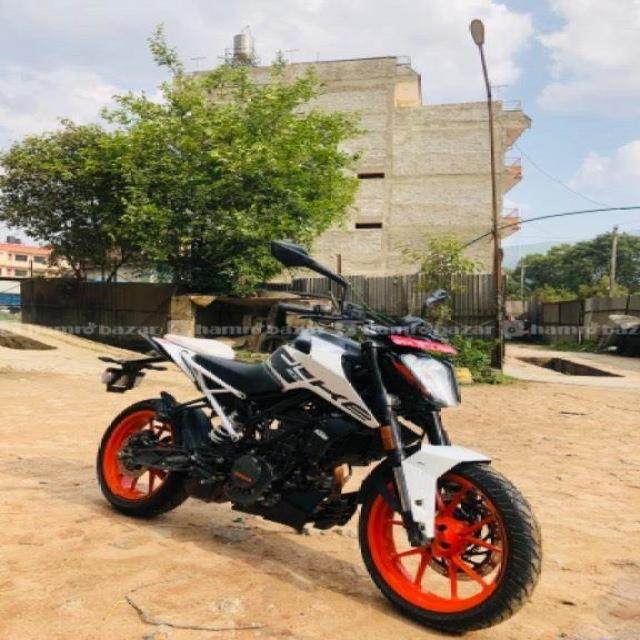License-plate: (386, 332, 464, 360)
